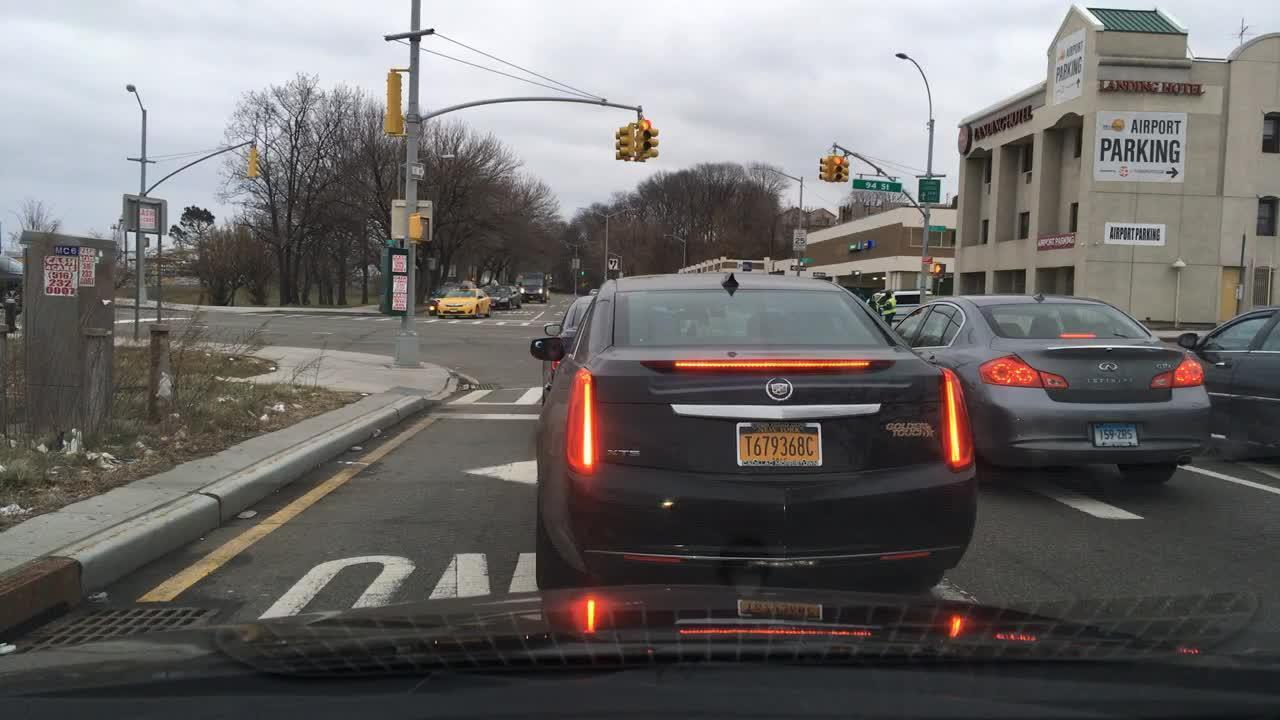Infiniti: (1093, 357, 1122, 376)
cadillac: (765, 375, 797, 403)
